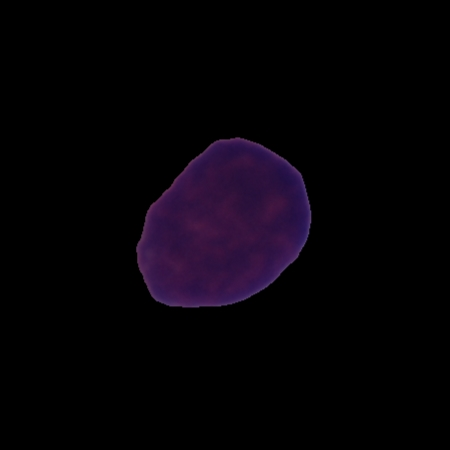ALL: (133, 133, 315, 311)
